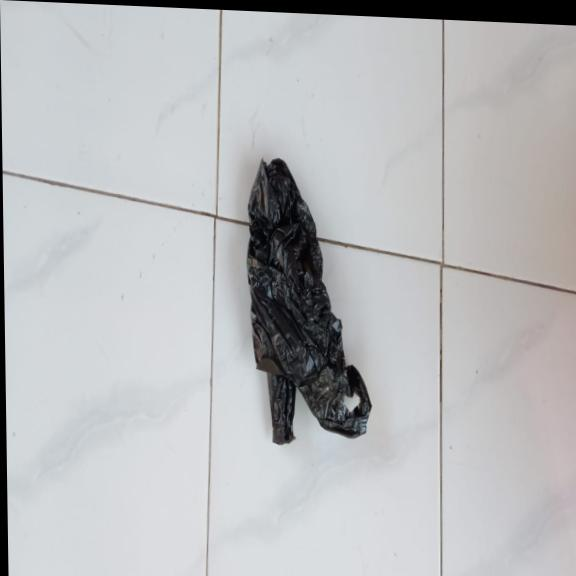Plastik: (245, 153, 373, 450)
